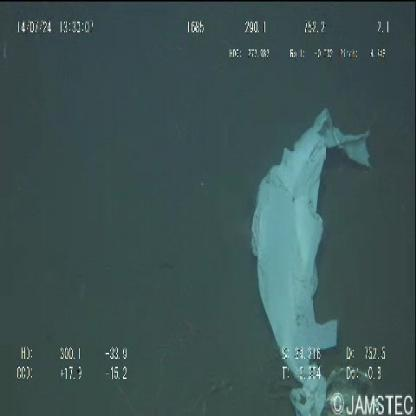Rác: (250, 107, 372, 415)
